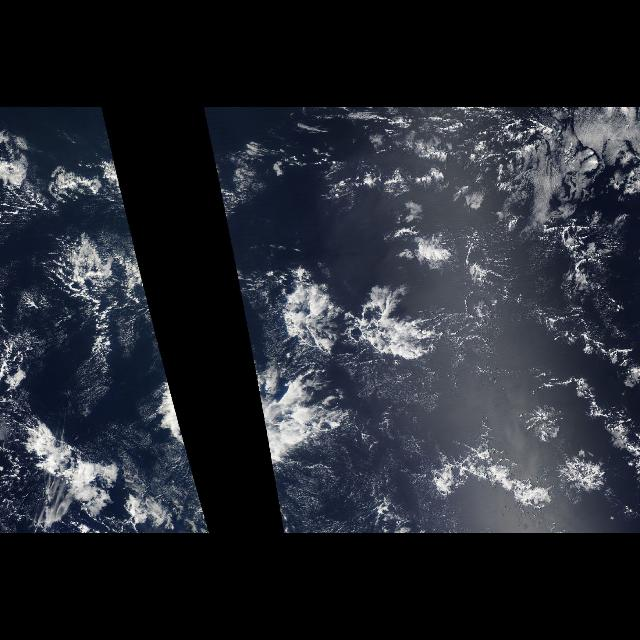Fish: (234, 252, 528, 414)
Flower: (234, 277, 626, 527), (0, 297, 202, 523)
Sugar: (312, 353, 461, 532)
